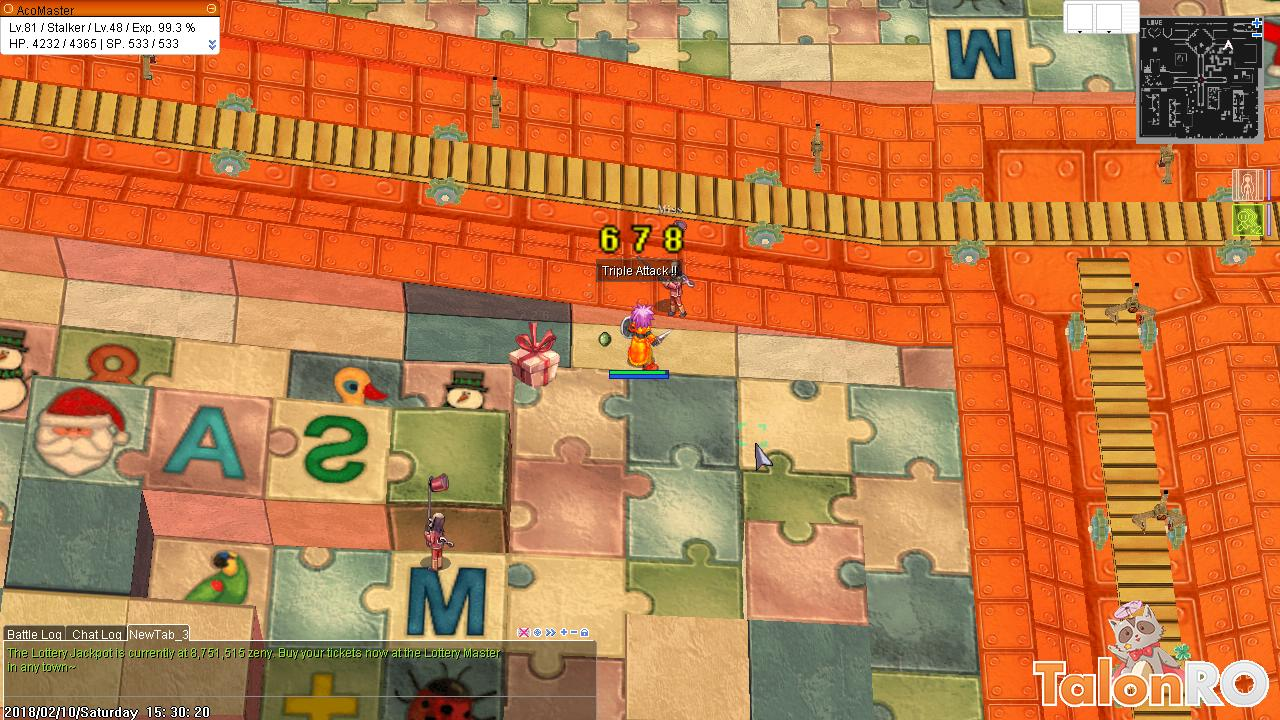loot: (594, 327, 613, 349)
mob: (647, 221, 692, 321), (420, 468, 457, 581)
myst_case: (505, 314, 562, 389)
